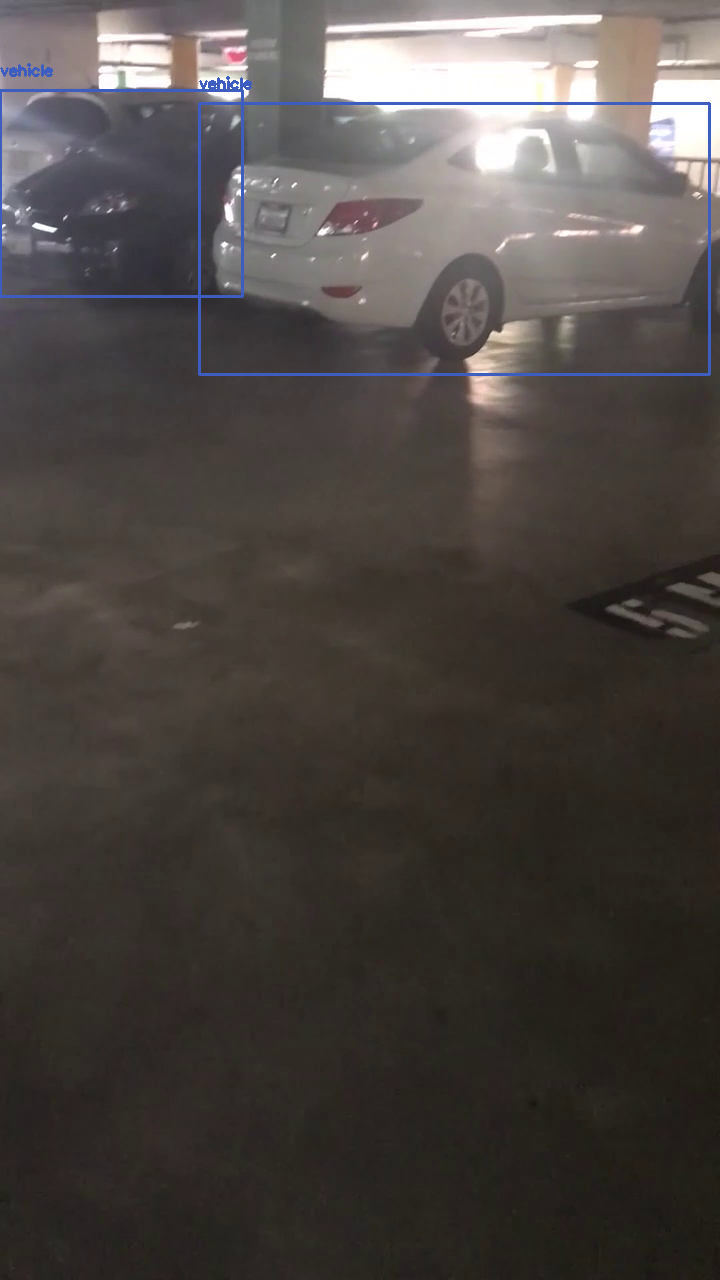vehicle: (199, 103, 709, 374), (0, 90, 242, 296)
